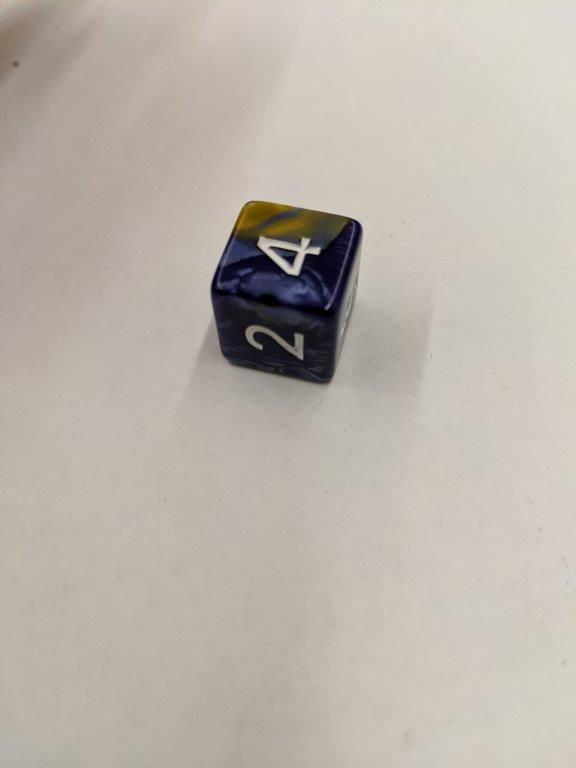d6-4: (211, 199, 361, 392)
